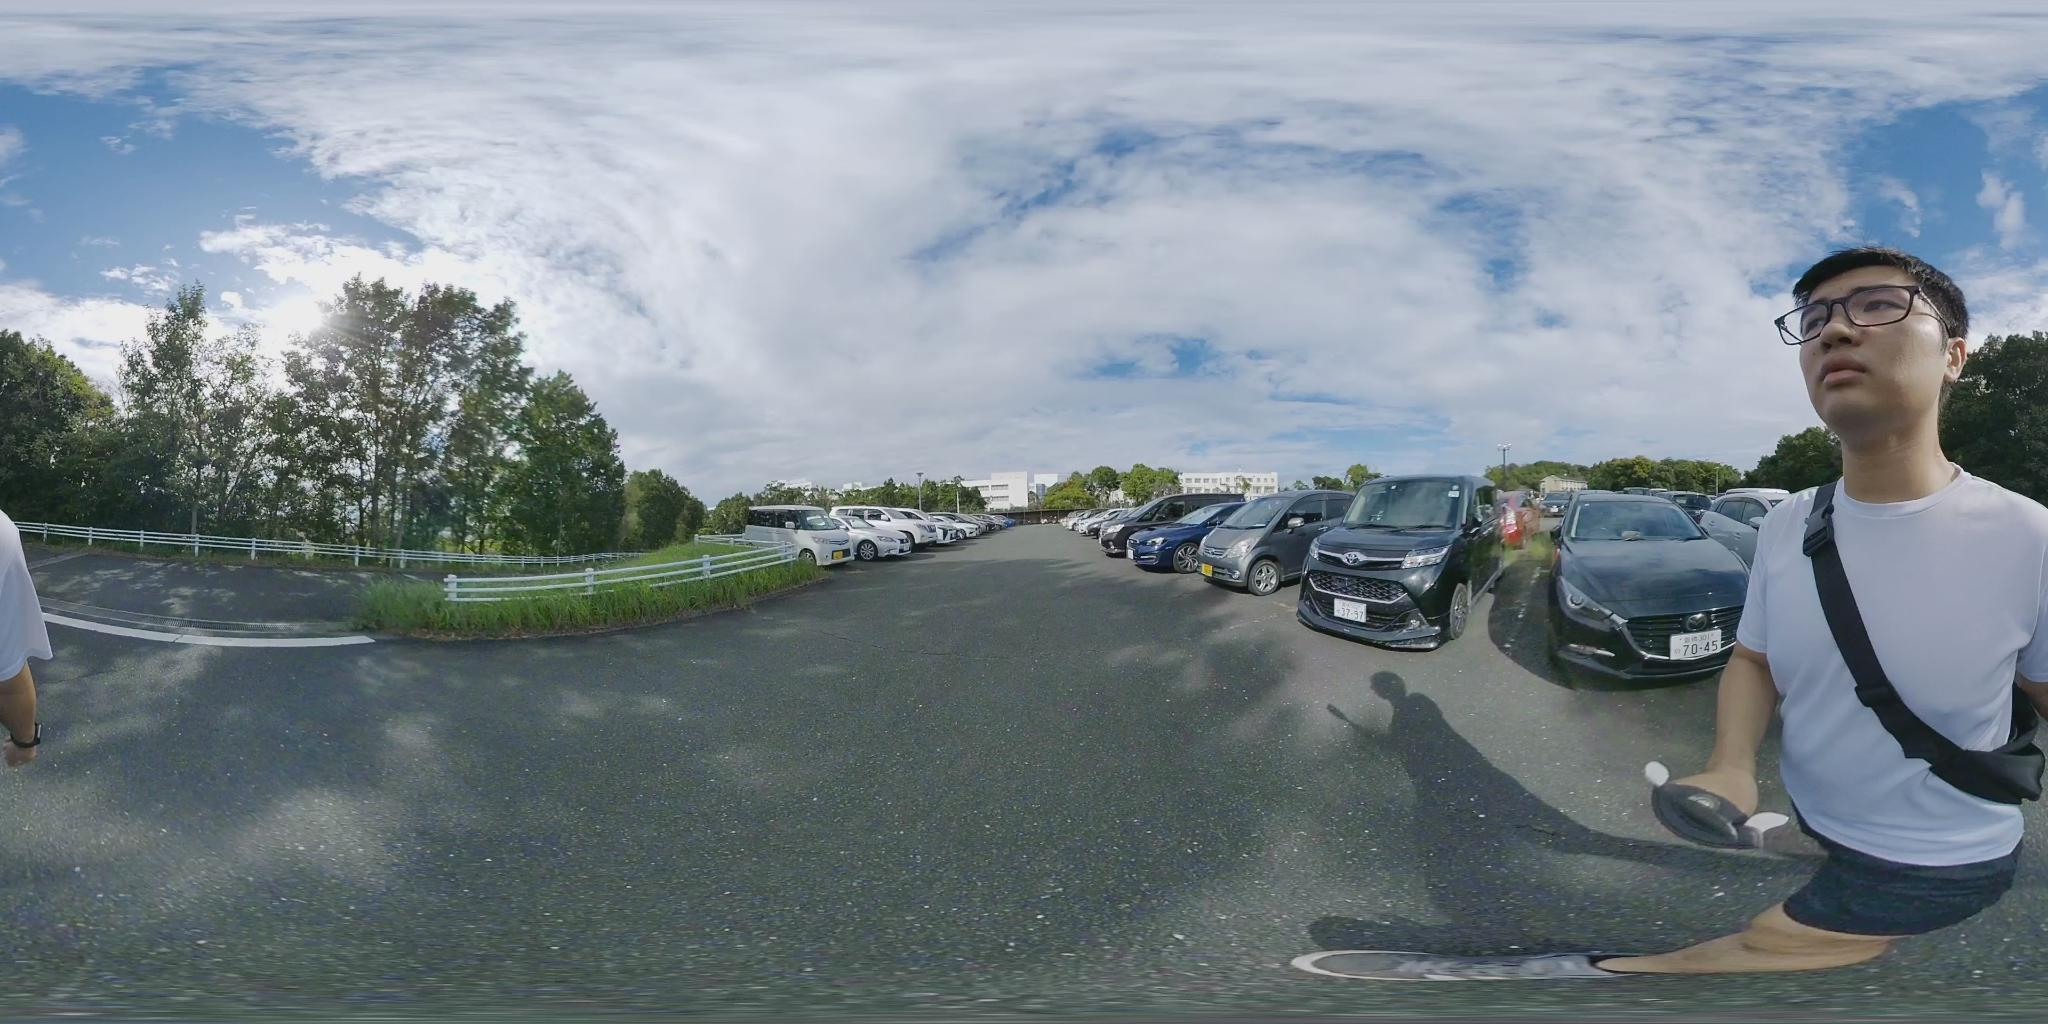car: (1497, 491, 1770, 691), (1297, 468, 1501, 648), (1189, 491, 1365, 596), (1117, 492, 1254, 568), (761, 507, 927, 563), (832, 509, 934, 559), (923, 516, 985, 543)
